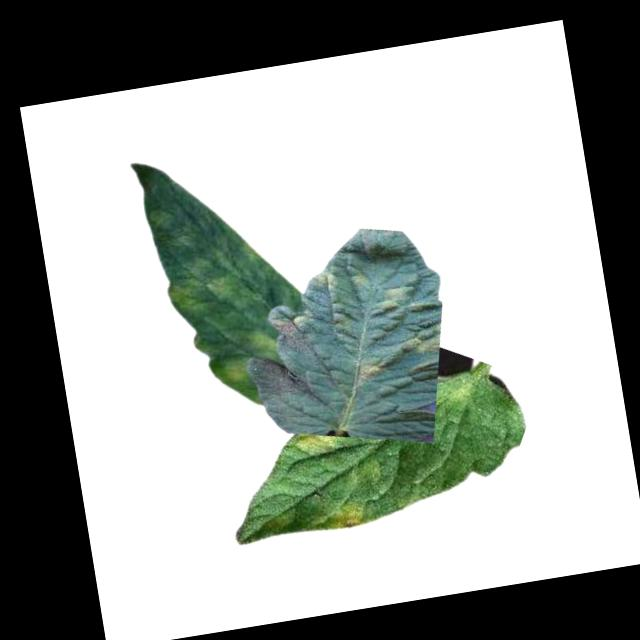Leaf_Mold: (160, 240, 271, 322), (395, 319, 451, 363), (292, 419, 340, 459), (372, 277, 419, 315), (243, 324, 283, 368), (347, 350, 390, 388), (323, 497, 365, 532), (215, 352, 250, 386), (305, 266, 343, 295), (347, 268, 371, 290)
